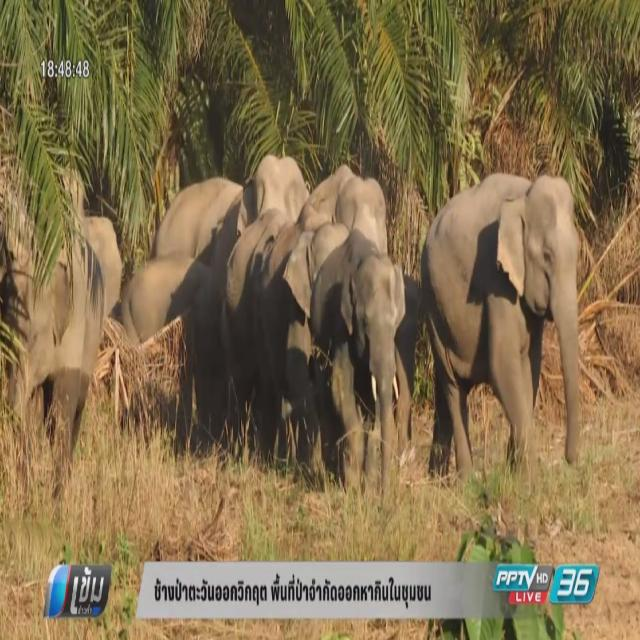Elephant: (149, 163, 406, 482), (415, 175, 584, 486), (7, 190, 129, 477), (308, 240, 407, 485)
